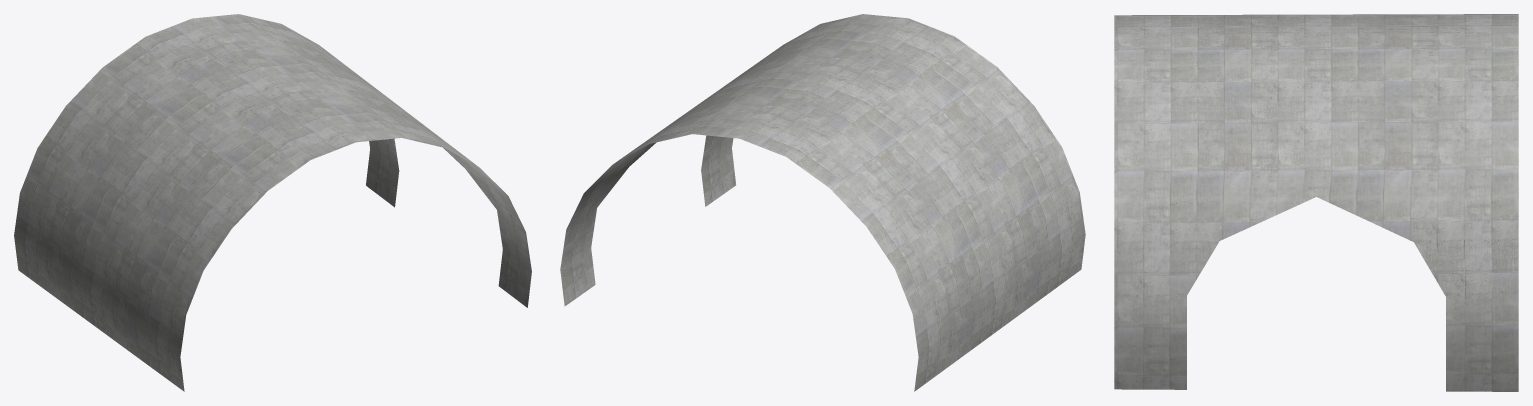
File: Tunnel_P2.fbx
3 renders of one model, left to right at view 1: azimuth 30°, elevation 25°; view 2: azimuth 150°, elevation 25°; view 3: azimuth 270°, elevation 25°, orthographic. The views are drawn at different scales.
Parts seen in each view (by area): view 1: Tunnel_P2; view 2: Tunnel_P2; view 3: Tunnel_P2.
Part boxes in pixels (bbox=[...]): Tunnel_P2: bbox=[14, 14, 531, 391]; Tunnel_P2: bbox=[560, 14, 1085, 391]; Tunnel_P2: bbox=[1114, 14, 1518, 391].
Size of the model in its own units: 1238 by 696 by 1001.
Materials: 1 (1 with a texture image).
